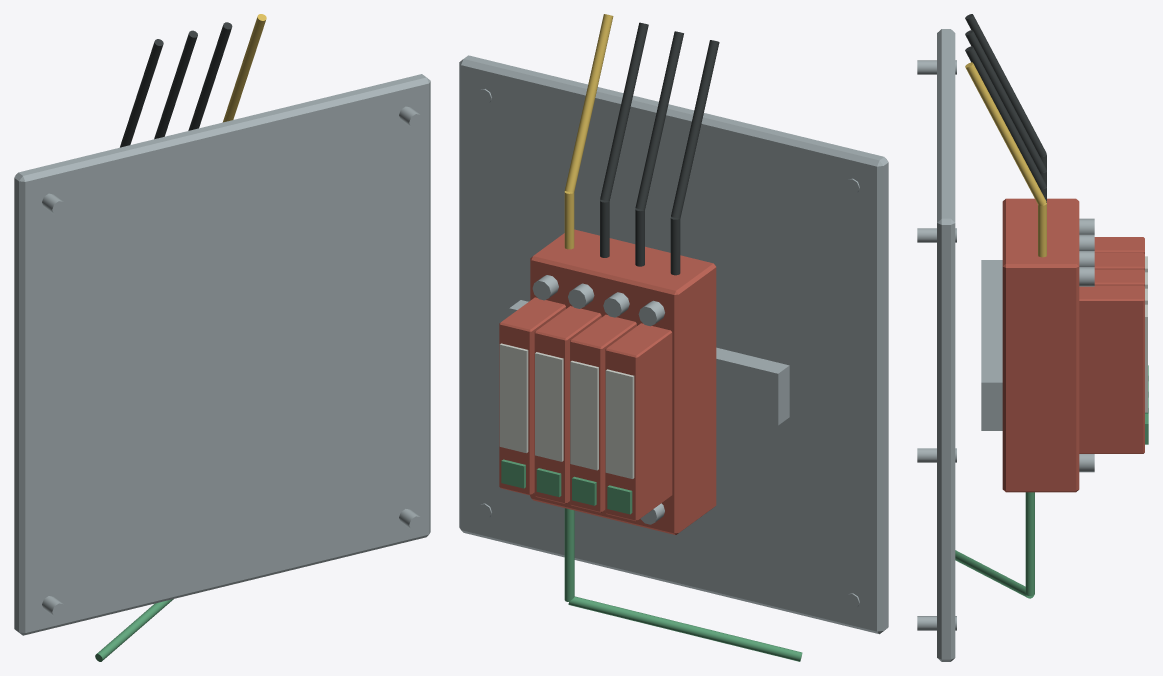
Rendered from mine-spd.glb.
The picture shows the model from 3 angles, left to right: view 1: azimuth 30°, elevation 25°; view 2: azimuth 150°, elevation 25°; view 3: azimuth 270°, elevation 25°; orthographic projection. The views are drawn at different scales.
Visible parts, largest first — view 1: spd__main__Protection_metal, spd__main__Protection_dark, spd__main__Protection_yellow, spd__main__Protection_green; view 2: spd__main__Protection_metal, spd__main__Protection_red, spd__main__Protection_paint, spd__main__Protection_dark, spd__main__Protection_green, spd__main__Protection_yellow; view 3: spd__main__Protection_red, spd__main__Protection_metal, spd__main__Protection_dark, spd__main__Protection_green, spd__main__Protection_yellow, spd__main__Protection_paint.
Part boxes in pixels (x1,y1,x2,y2): spd__main__Protection_metal: [14, 74, 430, 635]; spd__main__Protection_dark: [120, 22, 232, 147]; spd__main__Protection_yellow: [222, 14, 266, 122]; spd__main__Protection_green: [95, 599, 173, 661]; spd__main__Protection_metal: [459, 55, 888, 634]; spd__main__Protection_red: [499, 229, 716, 534]; spd__main__Protection_paint: [499, 343, 634, 478]; spd__main__Protection_dark: [600, 22, 719, 275]; spd__main__Protection_green: [501, 459, 802, 661]; spd__main__Protection_yellow: [564, 14, 613, 249]; spd__main__Protection_red: [1002, 198, 1144, 492]; spd__main__Protection_metal: [917, 29, 1094, 661]; spd__main__Protection_dark: [965, 14, 1046, 202]; spd__main__Protection_green: [955, 365, 1148, 598]; spd__main__Protection_yellow: [965, 62, 1046, 257]; spd__main__Protection_paint: [1145, 256, 1147, 412].
Size of the model in its own units: 0.3 by 0.4142 by 0.1515.
